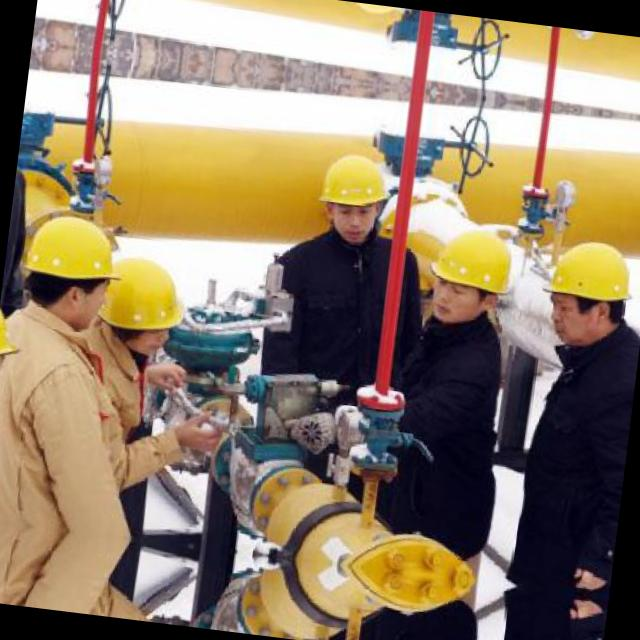helmet: (17, 208, 142, 339), (534, 228, 640, 353), (416, 217, 518, 326), (99, 249, 194, 361), (308, 142, 396, 249)
